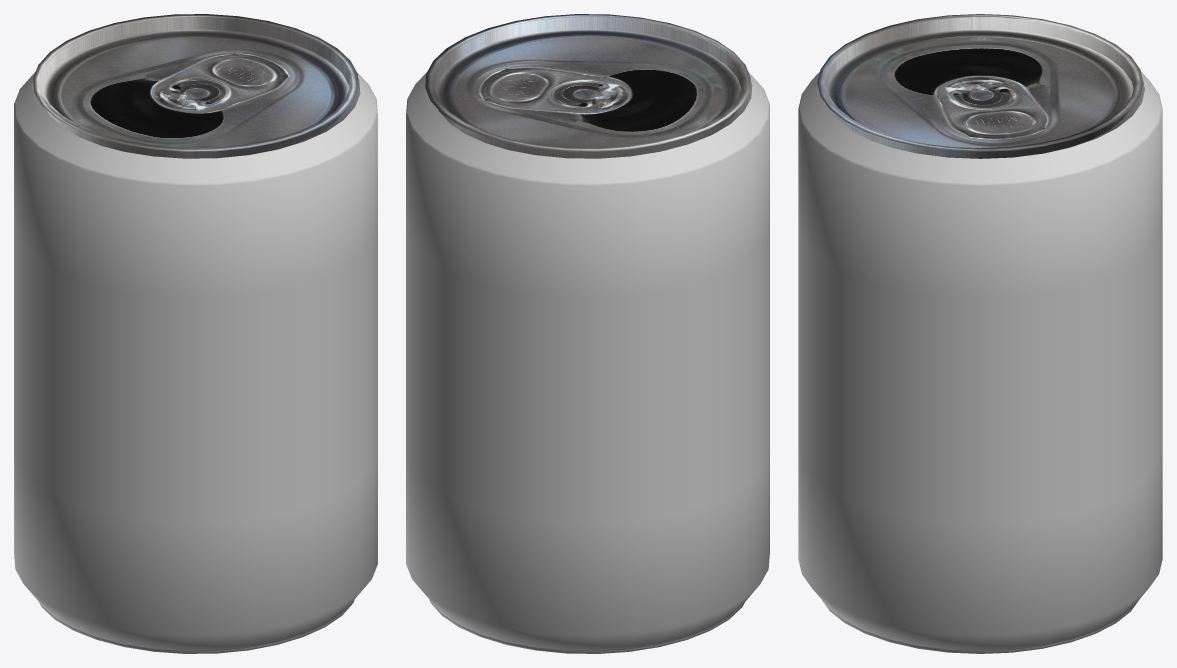
Rendered from PepsiCan.fbx.
3 views of the same model, side by side, from view 1: azimuth 30°, elevation 25°; view 2: azimuth 150°, elevation 25°; view 3: azimuth 270°, elevation 25° (orthographic).
Visible parts, largest first — view 1: Cylinder; view 2: Cylinder; view 3: Cylinder.
Boxes of the visible parts, <box> form: Cylinder: <box>14,14,377,653</box>; Cylinder: <box>406,14,769,653</box>; Cylinder: <box>798,14,1162,653</box>.
Size of the model in its own units: 200 by 304 by 200.
